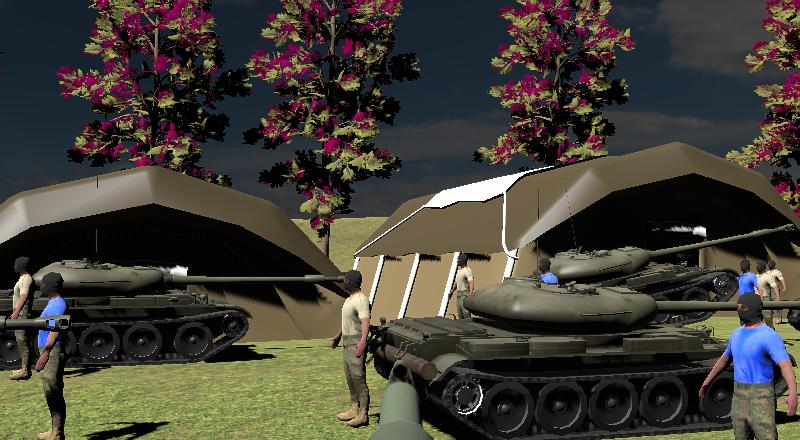Human: (6, 248, 41, 388)
Tank: (366, 272, 799, 440), (0, 251, 363, 372), (534, 220, 800, 328)
